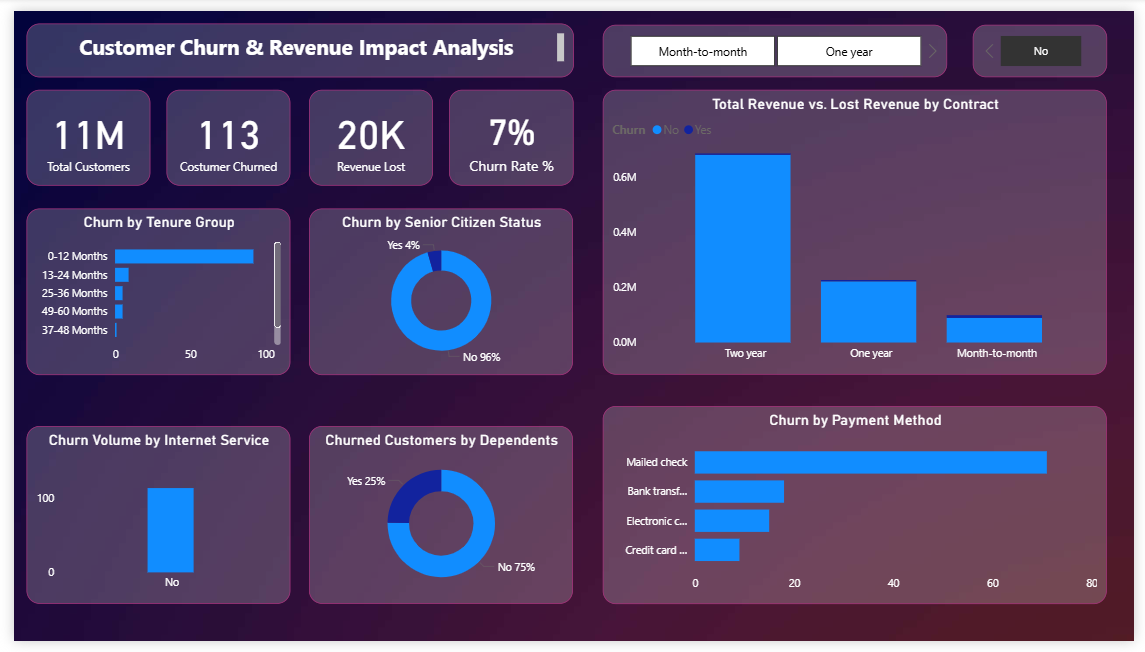

Layout of this report page (visuals, bound fields, positions):
{"tool":"powerbi","page":{"name":"Page 1","canvas":[1280,720],"ordinal":0},"visuals":[{"type":"columnChart","title":"Total Revenue vs. Lost Revenue by Contract","fields":{"Category":["churn_analysis telco_churn.Contract"],"Y":["Sum(churn_analysis telco_churn.TotalCharges)"],"Series":["churn_analysis telco_churn.Churn"]},"box":[672.4,90.6,576.3,325.2],"z":0},{"type":"clusteredBarChart","title":"Churn by Payment Method","fields":{"Category":["churn_analysis telco_churn.PaymentMethod"],"Y":["CountNonNull(churn_analysis telco_churn.customerID)"]},"box":[672.4,451.5,576.3,226.4],"z":1000},{"type":"textbox","box":[13.7,13.7,625.7,61.7],"z":2000},{"type":"card","fields":{"Values":["Sum(churn_analysis telco_churn.Total Customers)"]},"box":[13.7,90.6,141.3,109.8],"z":3000},{"type":"card","fields":{"Values":["churn_analysis telco_churn.Churn Rate %"]},"box":[496.7,90.6,142.7,109.8],"z":4000},{"type":"card","fields":{"Values":["CountNonNull(churn_analysis telco_churn.customerID)"]},"box":[174.3,90.6,141.3,109.8],"z":5000},{"type":"card","fields":{"Values":["Sum(churn_analysis telco_churn.TotalCharges)"]},"box":[337.6,90.6,141.3,109.8],"z":6000},{"type":"donutChart","title":"Churned Customers by Dependents","fields":{"Category":["churn_analysis telco_churn.Dependents"],"Y":["CountNonNull(churn_analysis telco_churn.customerID)"]},"box":[337.6,474.8,301.9,203.1],"z":7000},{"type":"columnChart","title":"Churn Volume by Internet Service","fields":{"Category":["churn_analysis telco_churn.InternetService"],"Y":["CountNonNull(churn_analysis telco_churn.customerID)"]},"box":[13.7,474.8,301.9,203.1],"z":8000},{"type":"donutChart","title":"Churn by Senior Citizen Status","fields":{"Category":["churn_analysis telco_churn.SeniorCitizen_Text"],"Y":["CountNonNull(churn_analysis telco_churn.customerID)"]},"box":[337.6,225,301.9,190.7],"z":9000},{"type":"barChart","title":"Churn by Tenure Group","fields":{"Y":["CountNonNull(churn_analysis telco_churn.customerID)"],"Category":["churn_analysis telco_churn.tenure_group"]},"box":[13.7,225,301.9,190.7],"z":10000},{"type":"slicer","fields":{"Values":["churn_analysis telco_churn.Contract"]},"box":[672.4,15.1,393.8,60.4],"z":11000},{"type":"slicer","fields":{"Values":["churn_analysis telco_churn.InternetService"]},"box":[1095,15.1,153.7,60.4],"z":12000}]}

Visuals, with their boxes in screenshot pixels (x1, y1, x2, y2), scaled from the page's 1280x720 canvas onto the 1145x652 screenshot:
"Total Revenue vs. Lost Revenue by Contract" columnChart: [left=601, top=82, right=1117, bottom=377]
"Churn by Payment Method" clusteredBarChart: [left=601, top=409, right=1117, bottom=614]
textbox: [left=12, top=12, right=572, bottom=68]
card - Sum(churn_analysis telco_churn.Total Customers): [left=12, top=82, right=139, bottom=181]
card - churn_analysis telco_churn.Churn Rate %: [left=444, top=82, right=572, bottom=181]
card - CountNonNull(churn_analysis telco_churn.customerID): [left=156, top=82, right=282, bottom=181]
card - Sum(churn_analysis telco_churn.TotalCharges): [left=302, top=82, right=428, bottom=181]
"Churned Customers by Dependents" donutChart: [left=302, top=430, right=572, bottom=614]
"Churn Volume by Internet Service" columnChart: [left=12, top=430, right=282, bottom=614]
"Churn by Senior Citizen Status" donutChart: [left=302, top=204, right=572, bottom=376]
"Churn by Tenure Group" barChart: [left=12, top=204, right=282, bottom=376]
slicer - churn_analysis telco_churn.Contract: [left=601, top=14, right=954, bottom=68]
slicer - churn_analysis telco_churn.InternetService: [left=980, top=14, right=1117, bottom=68]
